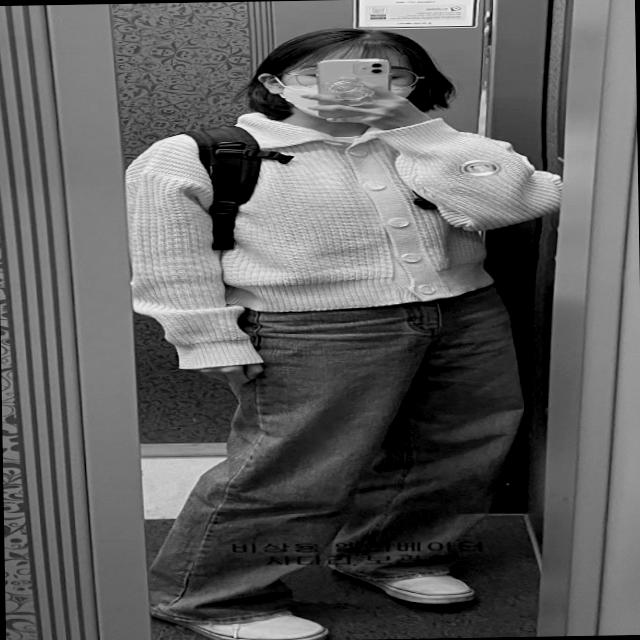cardigan: (130, 106, 557, 364)
denimpants: (146, 291, 526, 625)
